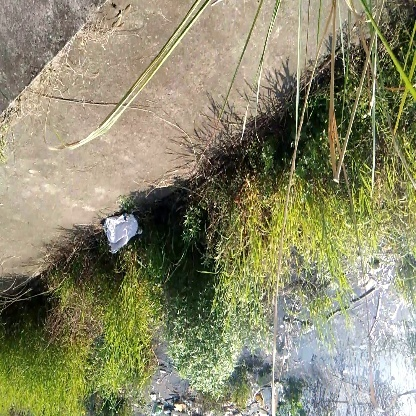plastic-bag: (101, 211, 143, 256)
